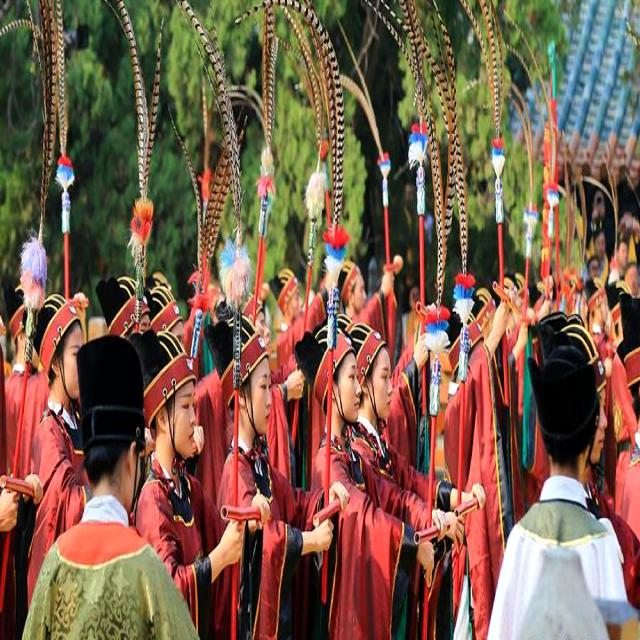Reeves-s Pheasant: (358, 0, 474, 314), (237, 0, 349, 249), (165, 0, 246, 301), (0, 0, 72, 222), (101, 0, 168, 198), (457, 0, 511, 146), (256, 0, 283, 158)
